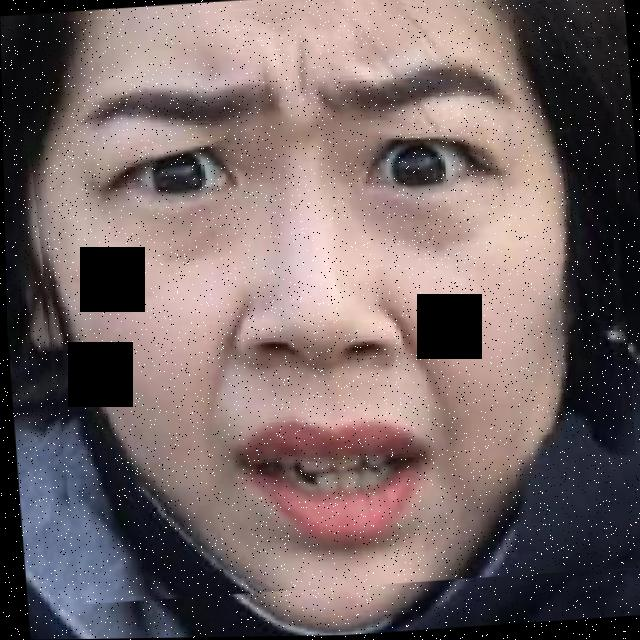anger: (15, 0, 640, 607)
